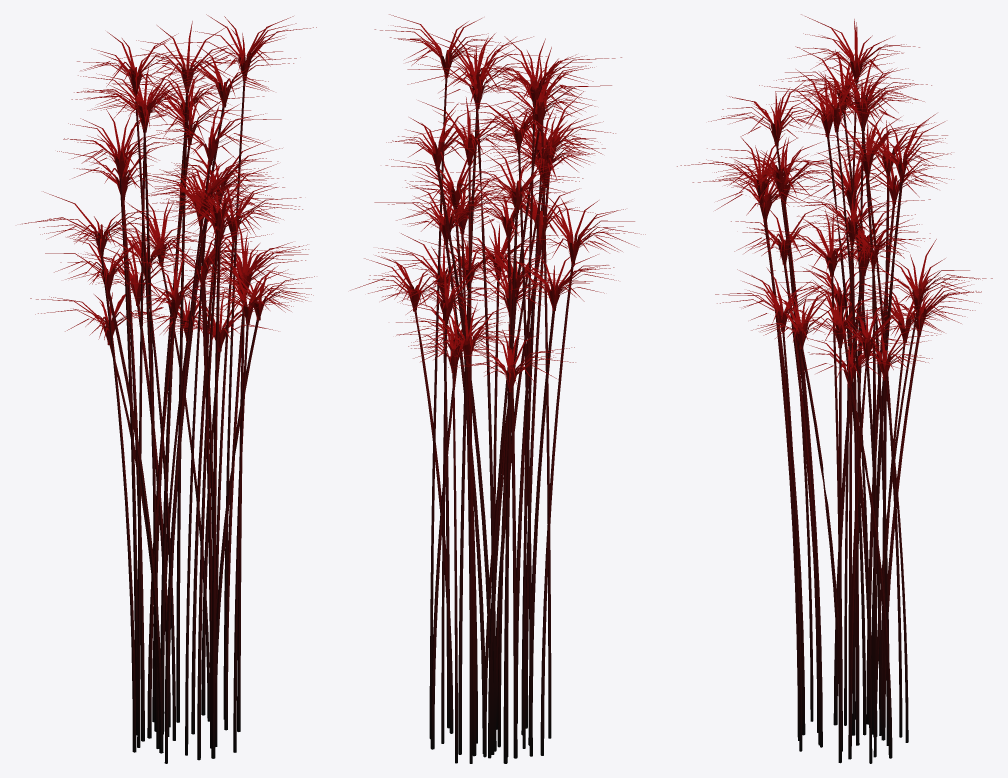
Rendered from common_reed_v2.fbx.
The picture shows the model from 3 angles, left to right: view 1: azimuth 30°, elevation 25°; view 2: azimuth 150°, elevation 25°; view 3: azimuth 270°, elevation 25°; orthographic projection. The views are drawn at different scales.
Parts seen in each view (by area): view 1: common_reed_v2; view 2: common_reed_v2; view 3: common_reed_v2.
Boxes of the visible parts, x1,y1,x2,y2 form: common_reed_v2: (20, 14, 316, 763); common_reed_v2: (350, 14, 645, 763); common_reed_v2: (677, 14, 992, 763).
Bounding box in the file's own units: 175 × 407 × 174.
